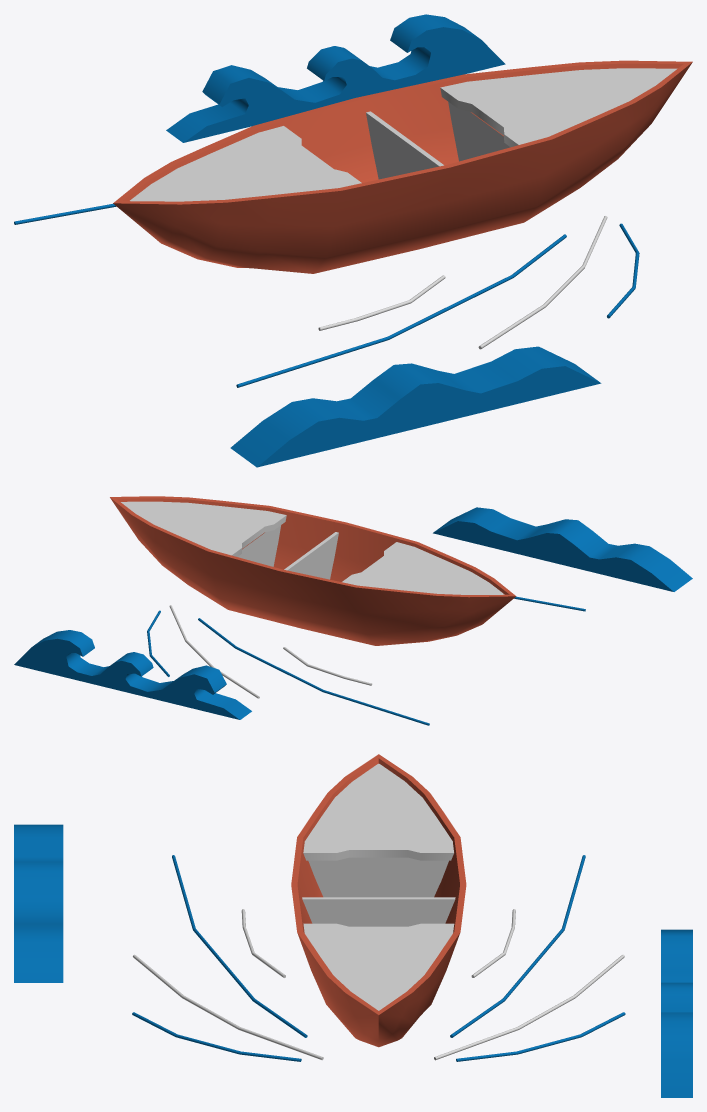
The picture shows the model from 3 angles, top to bottom: view 1: azimuth 30°, elevation 25°; view 2: azimuth 150°, elevation 25°; view 3: azimuth 270°, elevation 25°; orthographic projection. The views are drawn at different scales.
Parts seen in each view (by area): view 1: SM_120; view 2: SM_120; view 3: SM_120.
Boxes of the visible parts, left/top/right/bottom form: SM_120: left=14, top=14, right=692, bottom=467; SM_120: left=14, top=496, right=692, bottom=725; SM_120: left=14, top=754, right=692, bottom=1097.
Bounding box in the file's own units: 3.03 × 0.4865 × 3.05.
